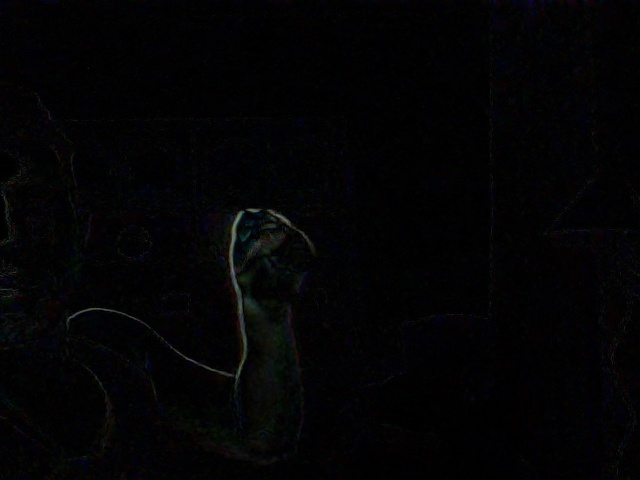hand_fi: (222, 201, 321, 318)
